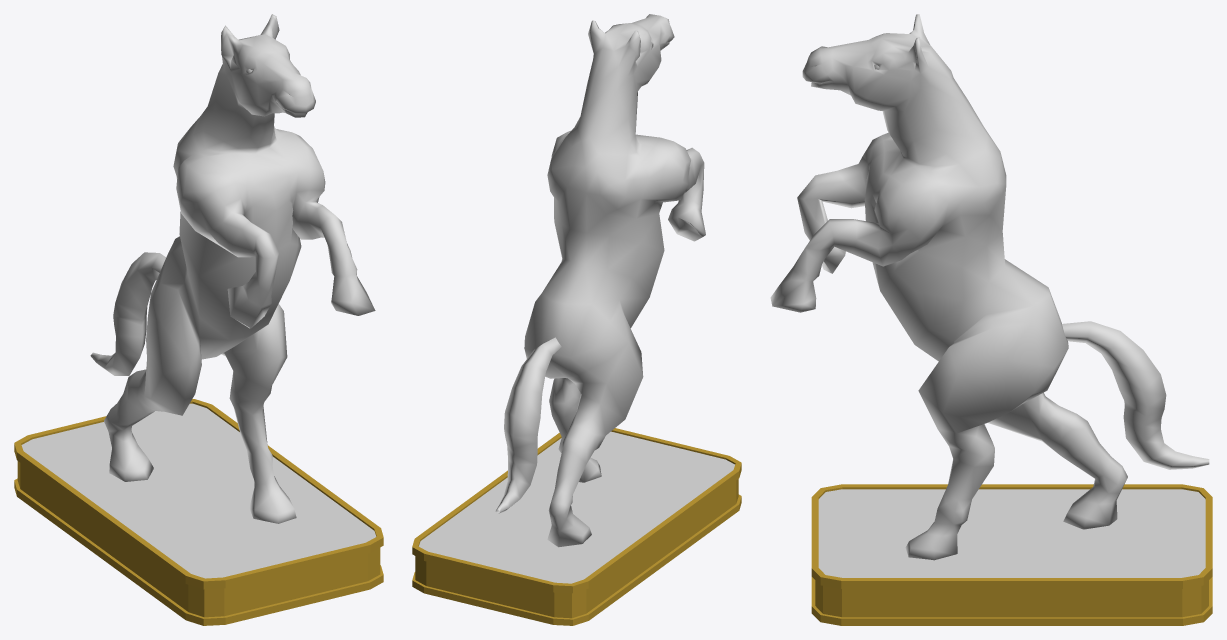
The model's file is Horse Statue.fbx.
The picture shows the model from 3 angles, left to right: view 1: azimuth 30°, elevation 25°; view 2: azimuth 150°, elevation 25°; view 3: azimuth 270°, elevation 25°; orthographic projection. The views are drawn at different scales.
Parts seen in each view (by area): view 1: Plane.001, Cube.002; view 2: Plane.001, Cube.002; view 3: Plane.001, Cube.002.
Part boxes in pixels (box(x1,y1,x2,y2)): Plane.001: box(90, 14, 375, 523); Cube.002: box(14, 399, 383, 625); Plane.001: box(495, 14, 705, 547); Cube.002: box(412, 428, 741, 625); Plane.001: box(770, 14, 1209, 560); Cube.002: box(811, 484, 1212, 625).
Size of the model in its own units: 292 by 784 by 567.
